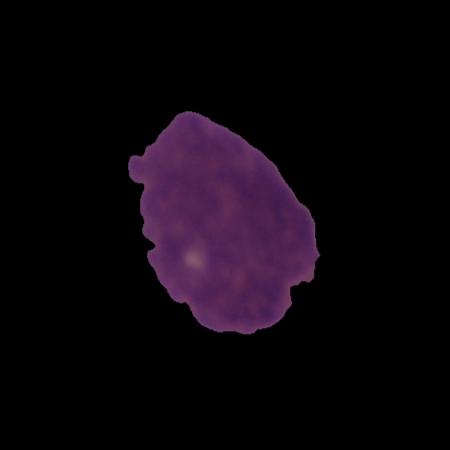HEM: (124, 106, 323, 338)
